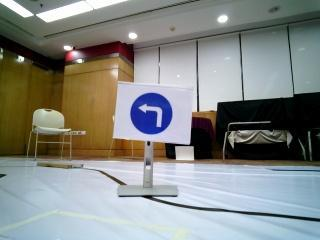left: (118, 85, 188, 140)
